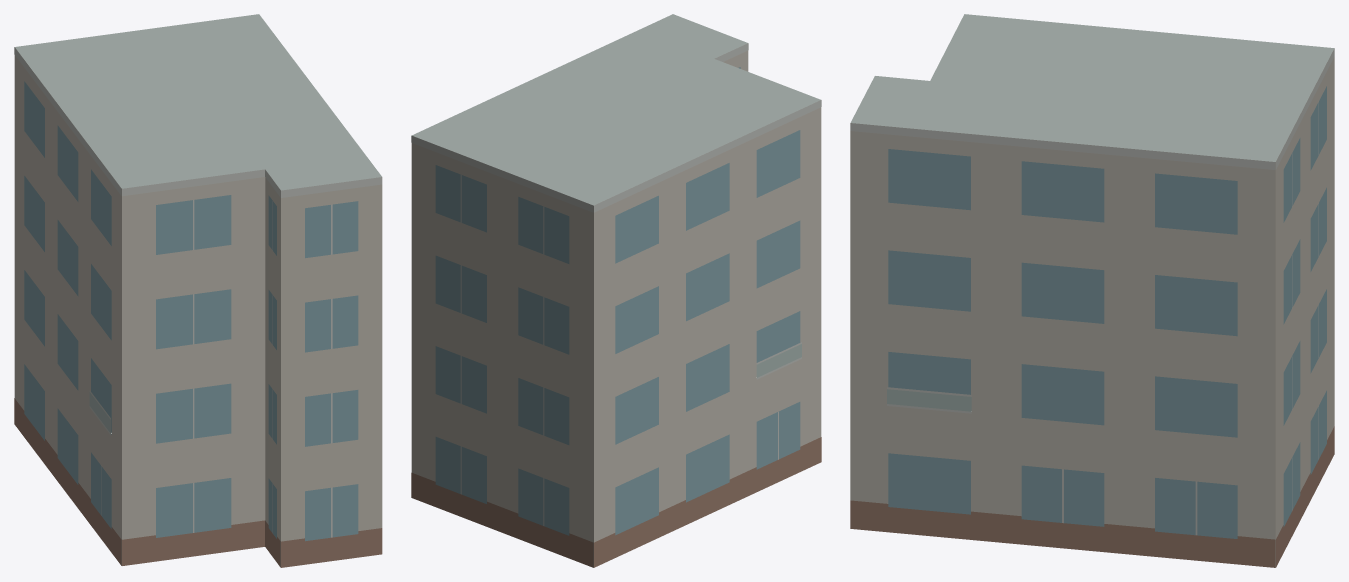
Rendered from residential-b4bcdc82-573c-4d91-abb8-d4c6f4ee9cb7.glb.
3 renders of one model, left to right at view 1: azimuth 30°, elevation 25°; view 2: azimuth 150°, elevation 25°; view 3: azimuth 270°, elevation 25°, orthographic. The views are drawn at different scales.
Parts seen in each view (by area): view 1: residential-b4bcdc82-573c-4d91-abb8-d4c6f4ee9cb7.tmp; view 2: residential-b4bcdc82-573c-4d91-abb8-d4c6f4ee9cb7.tmp; view 3: residential-b4bcdc82-573c-4d91-abb8-d4c6f4ee9cb7.tmp.
Part boxes in pixels (x1,y1,x2,y2): residential-b4bcdc82-573c-4d91-abb8-d4c6f4ee9cb7.tmp: [14, 14, 382, 567]; residential-b4bcdc82-573c-4d91-abb8-d4c6f4ee9cb7.tmp: [411, 14, 821, 567]; residential-b4bcdc82-573c-4d91-abb8-d4c6f4ee9cb7.tmp: [850, 14, 1334, 567].
Size of the model in its own units: 9.56 by 12.2 by 13.2.
